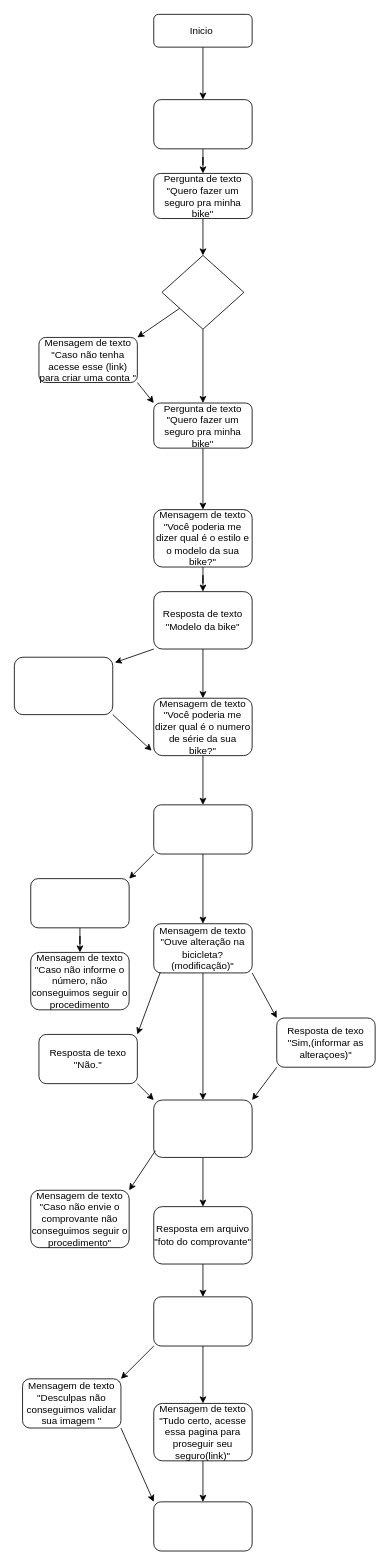
This 390x1565 diagram has some shape labels left out. Each missing label, with the centre of its shape:
Fim: point 202,1526
Mensagem de texto "Certo, agurde um momento, estamos validando a imagem": point 202,1321
Mensagem de texto "Envie o comprovante, de forma legivel por gentileza": point 202,1128
Mensagem de texto "Não tenho meu modelo de bike": point 63,685
Mensagem de texto Olá, Somos da Porto,como posso te ajudar?: point 202,124
Pergunta de texto Você ja trm cadastro?: point 202,292
Resposta de texto "Não tenho o número de série": point 79,903
Resposta de texto "Número de série": point 202,829
